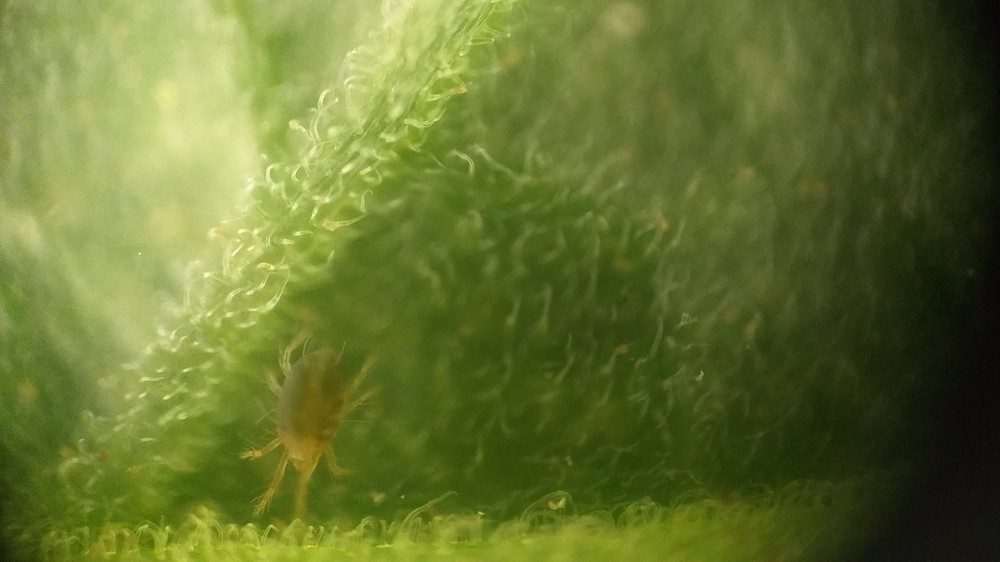Aracnido Rojo: (227, 327, 383, 525)
